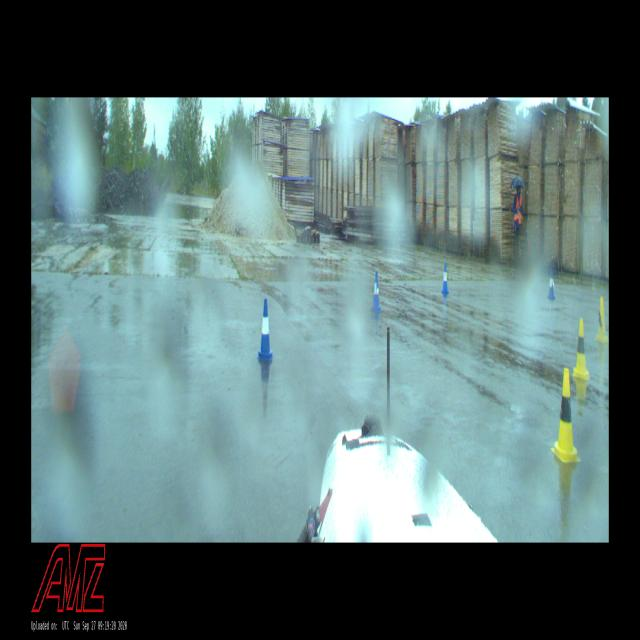blue_cone: (257, 298, 274, 360), (371, 272, 382, 312), (441, 263, 449, 295), (548, 269, 555, 301)
yellow_cone: (551, 367, 581, 463), (572, 318, 590, 381), (595, 296, 607, 346)
